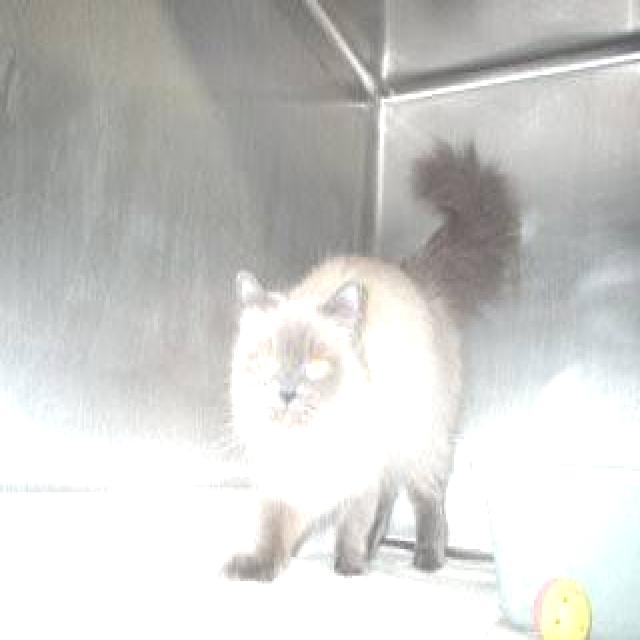Kucing: (176, 78, 610, 593)
